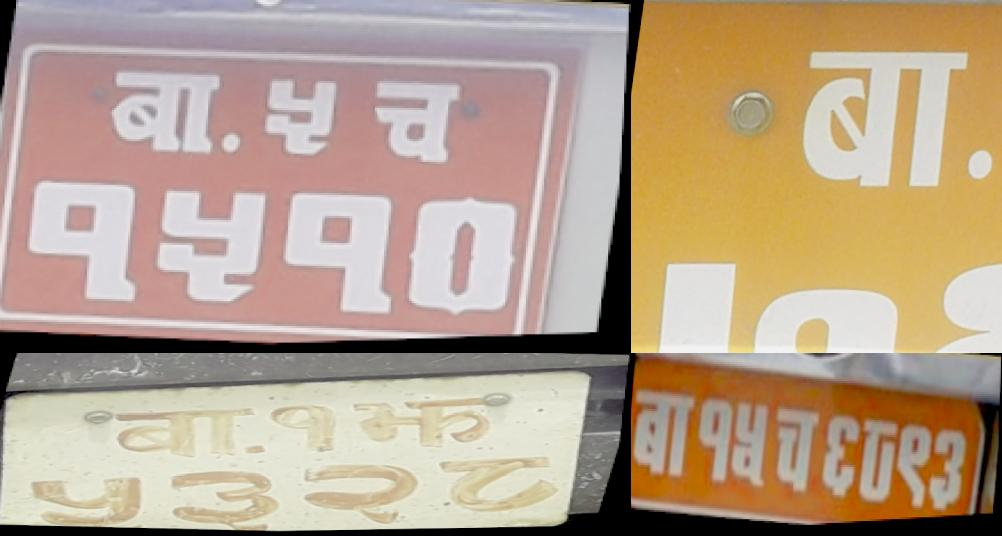0: (397, 188, 536, 333)
1: (265, 173, 423, 325), (10, 164, 160, 313), (257, 401, 354, 458), (690, 388, 736, 498)
2: (293, 459, 429, 529)
3: (157, 468, 297, 534), (928, 416, 974, 522)
5: (145, 172, 288, 314), (248, 66, 360, 173), (17, 471, 166, 530), (728, 392, 778, 502)
6: (816, 400, 864, 516)
7: (640, 234, 927, 353)
8: (423, 453, 573, 520), (856, 406, 900, 522)
9: (892, 413, 935, 523)
ba: (781, 28, 979, 211), (97, 60, 237, 172), (106, 405, 260, 461), (631, 381, 697, 490)
cha: (354, 68, 482, 188), (768, 396, 824, 506)
jha: (339, 392, 508, 455)
